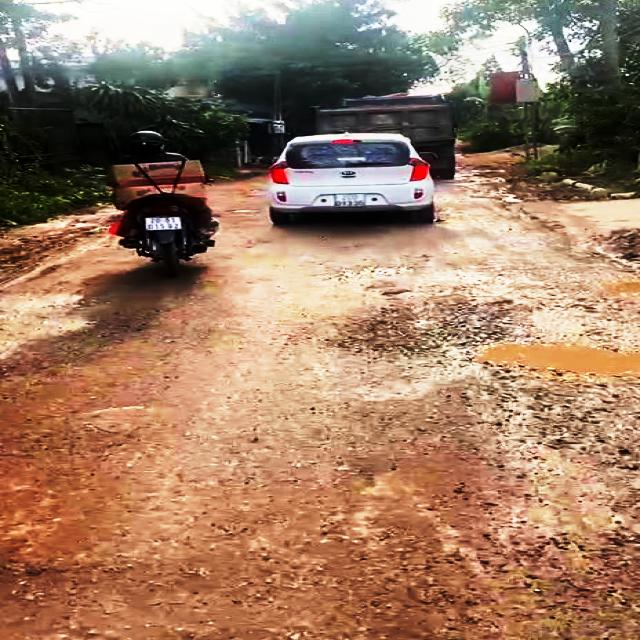pothole: (349, 288, 640, 381)
